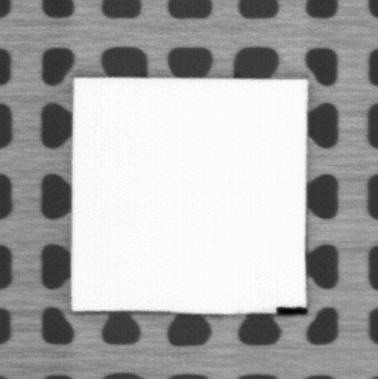DIE_BROKEN: (274, 305, 309, 316)
